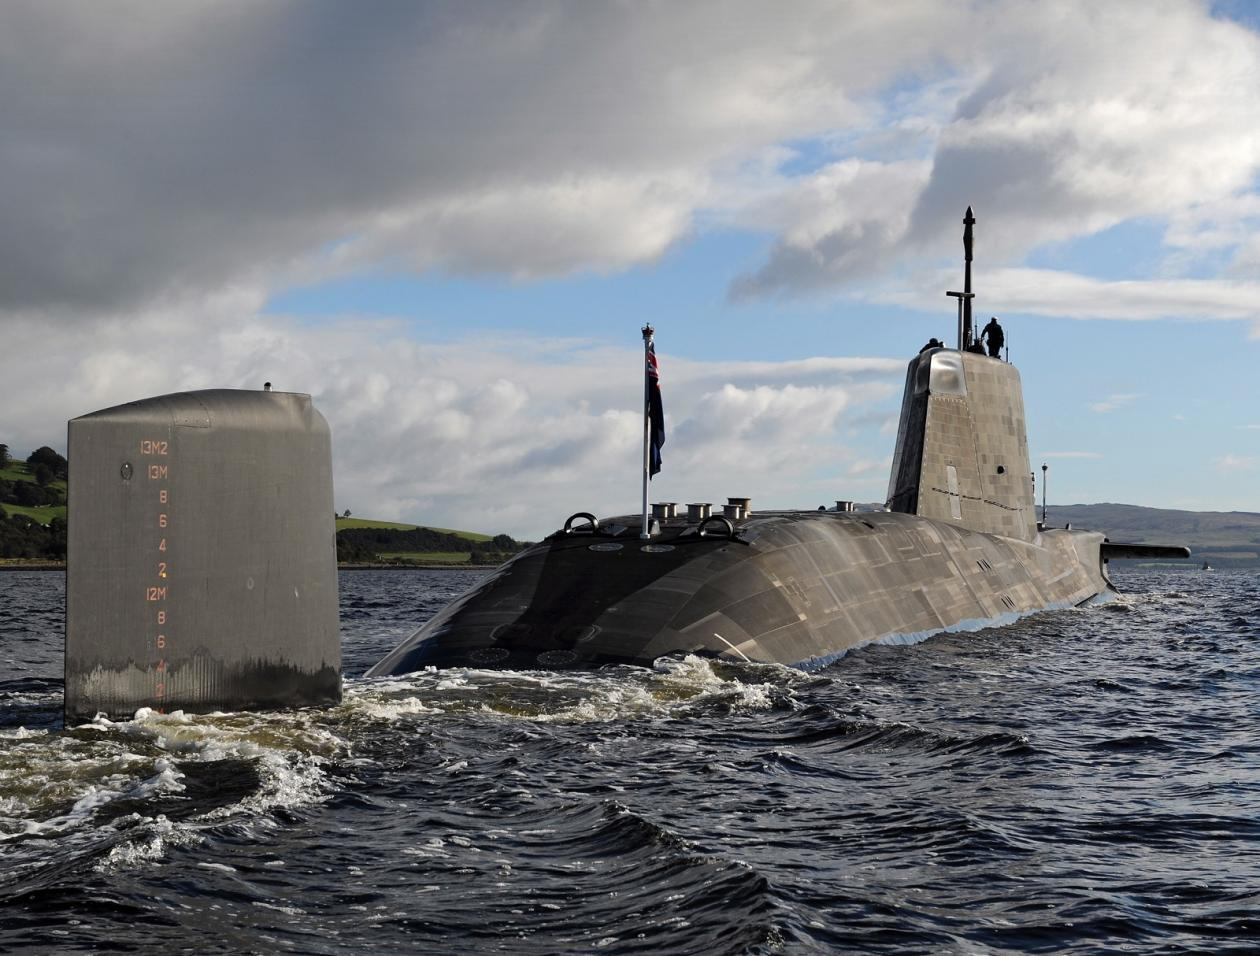Submarine: (0, 178, 1260, 915)
